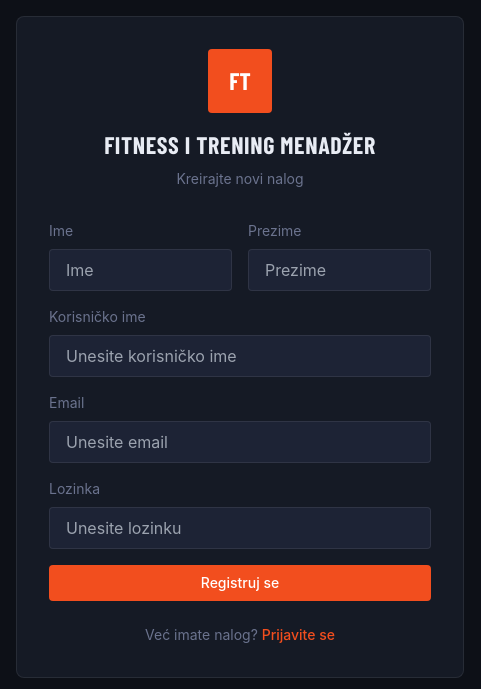
it: Register Page › shows error message when registration fails with conflict
Type "John" into the field with placeholder "Ime" at (140, 270), box x1=49 y1=249 x2=232 y2=291
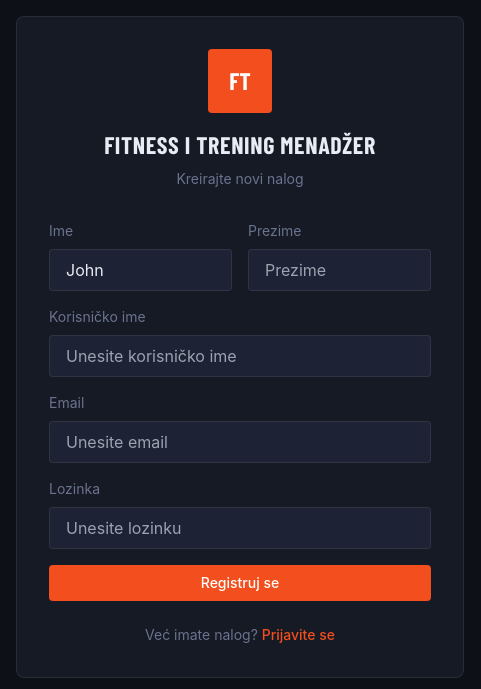
Type "Doe" into the field with placeholder "Prezime" at (340, 270), box x1=248 y1=249 x2=431 y2=291
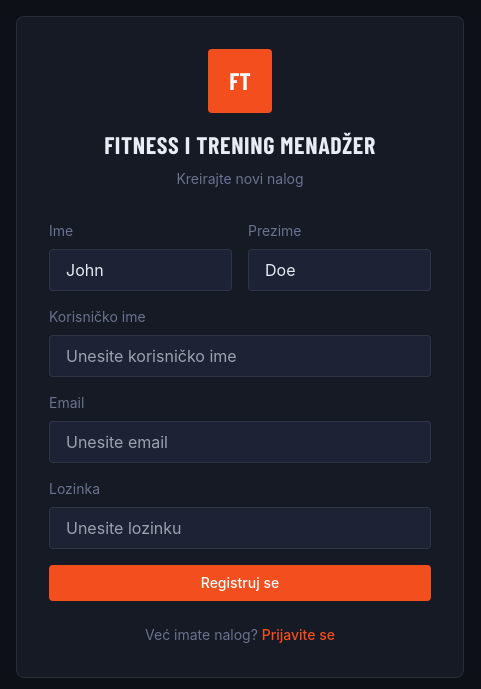
Type "existinguser" into the field with placeholder "Unesite korisničko ime" at (240, 356), box x1=49 y1=335 x2=431 y2=377
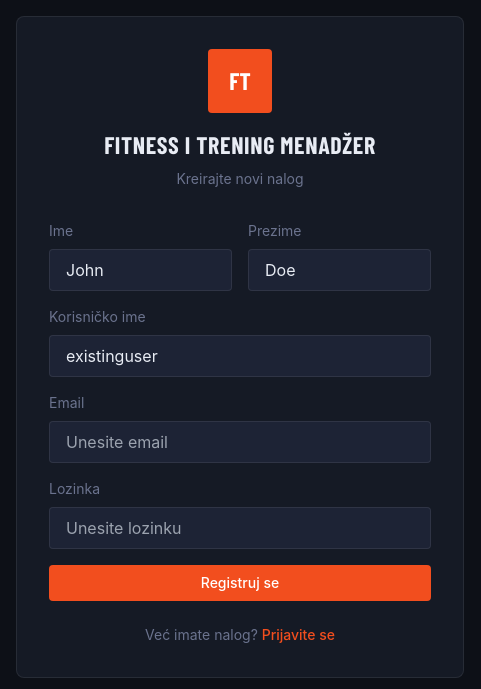
Type "existing@example.com" into the field with placeholder "Unesite email" at (240, 442), box x1=49 y1=421 x2=431 y2=463
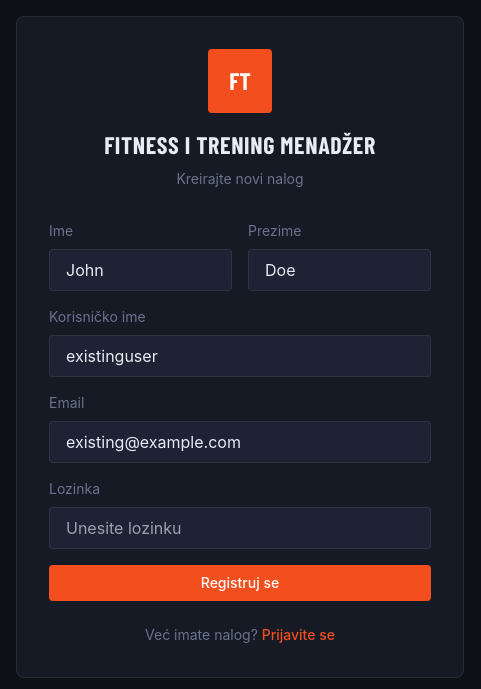
Type "password123" into the password field with placeholder "Unesite lozinku" at (240, 528), box x1=49 y1=507 x2=431 y2=549
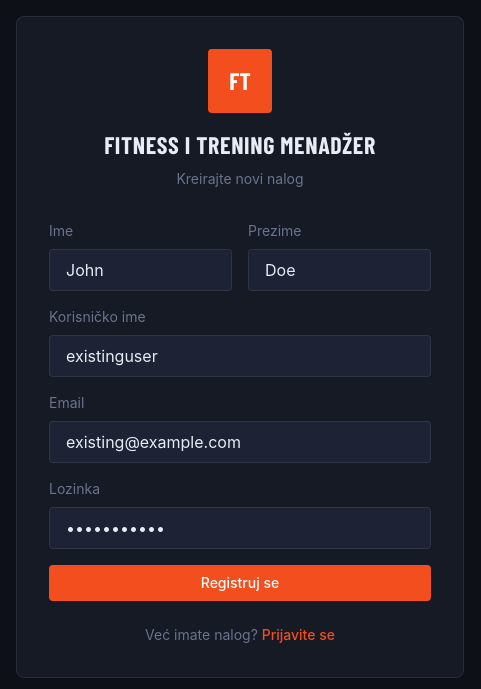
Click the button "Registruj se" at (240, 583), box x1=49 y1=565 x2=431 y2=601
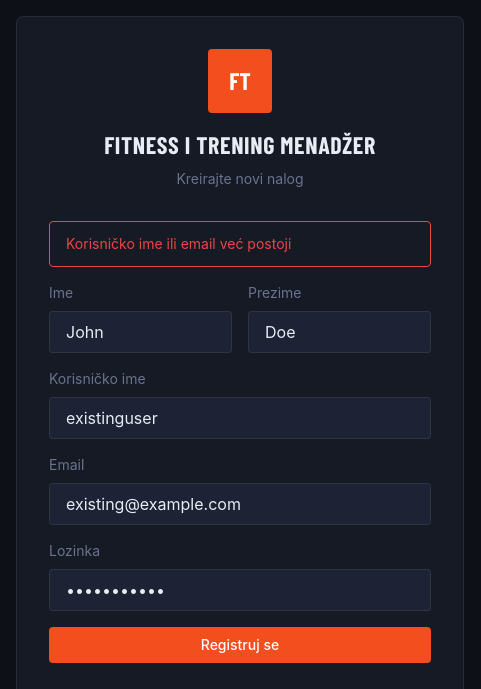
Expected: the text "Korisničko ime ili email već postoji" is shown, x1=49 y1=221 x2=431 y2=267
